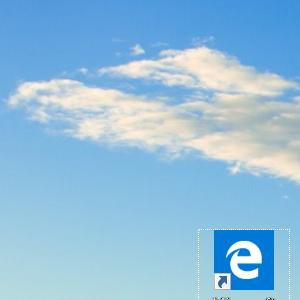edge: (214, 230, 274, 290)
